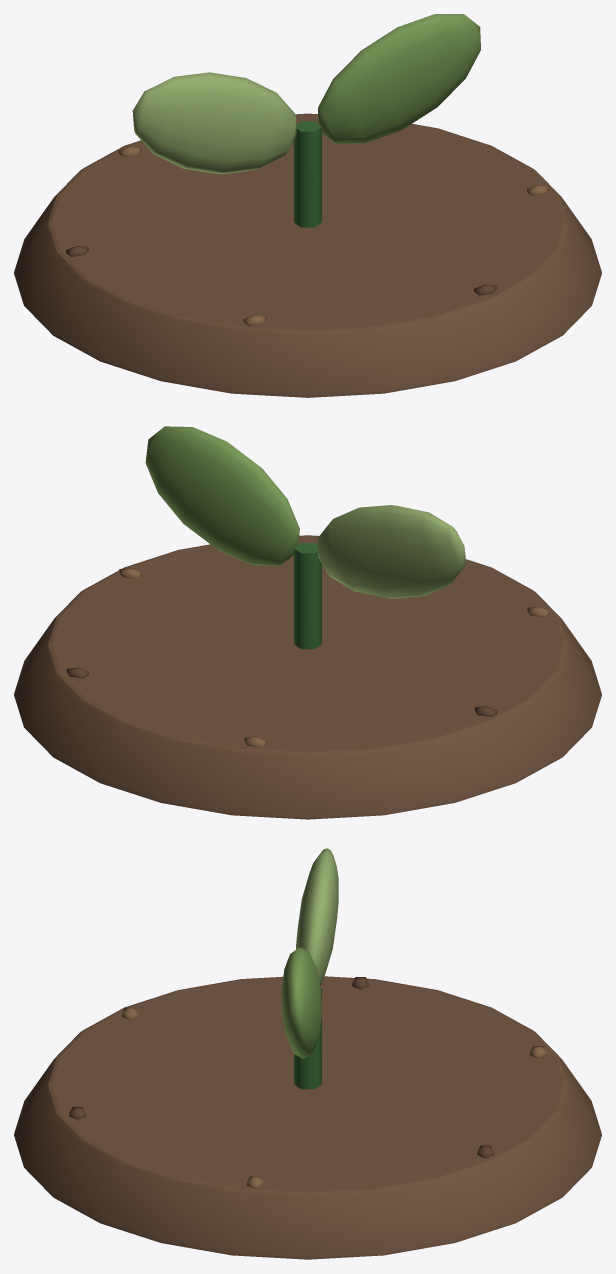
Rendered from flower_stage1.glb.
The picture shows the model from 3 angles, top to bottom: view 1: azimuth 30°, elevation 25°; view 2: azimuth 150°, elevation 25°; view 3: azimuth 270°, elevation 25°; orthographic projection.
Size of the model in its own units: 0.3775 by 0.1667 by 0.3775.
